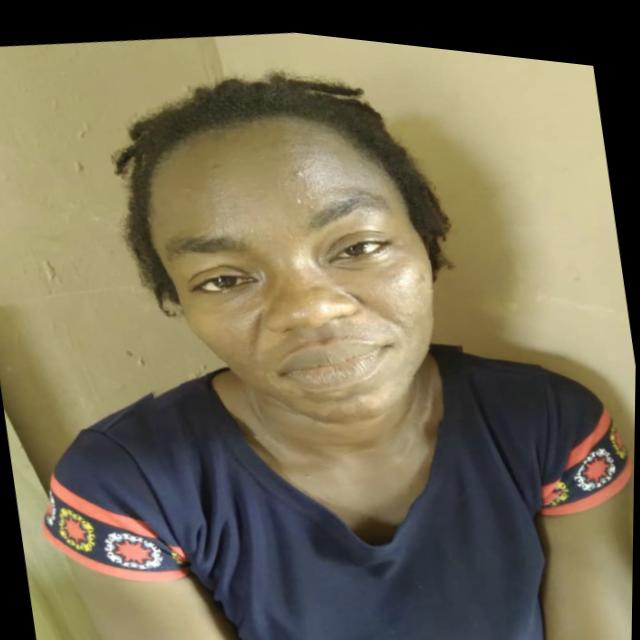sad: (103, 57, 478, 466)
